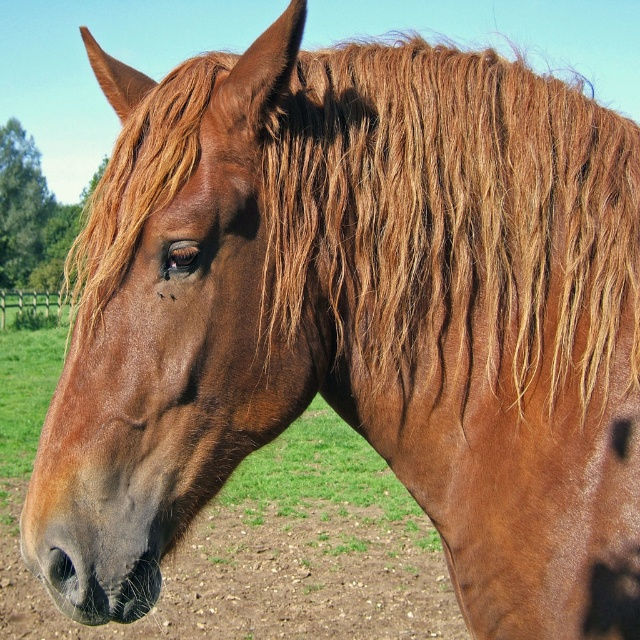Horse: (18, 0, 640, 640)
